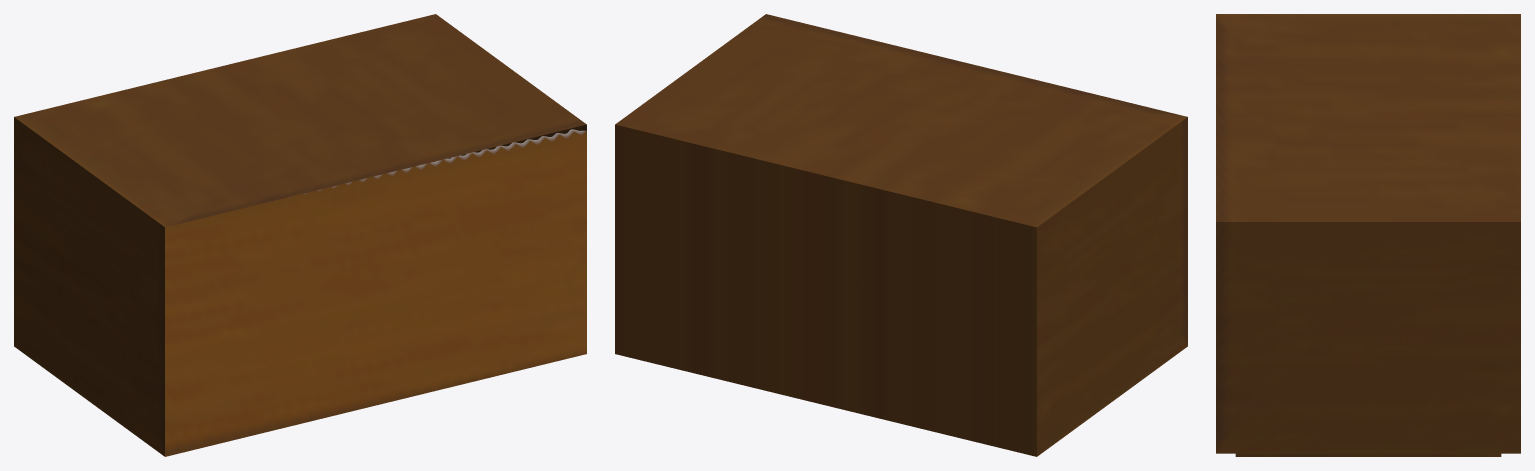
The model's file is pz_counter_oak_wall.obj.
3 renders of one model, left to right at view 1: azimuth 30°, elevation 25°; view 2: azimuth 150°, elevation 25°; view 3: azimuth 270°, elevation 25°, orthographic.
Size of the model in its own units: 1 by 0.536 by 0.62.
Materials: 1 (1 with a texture image).
